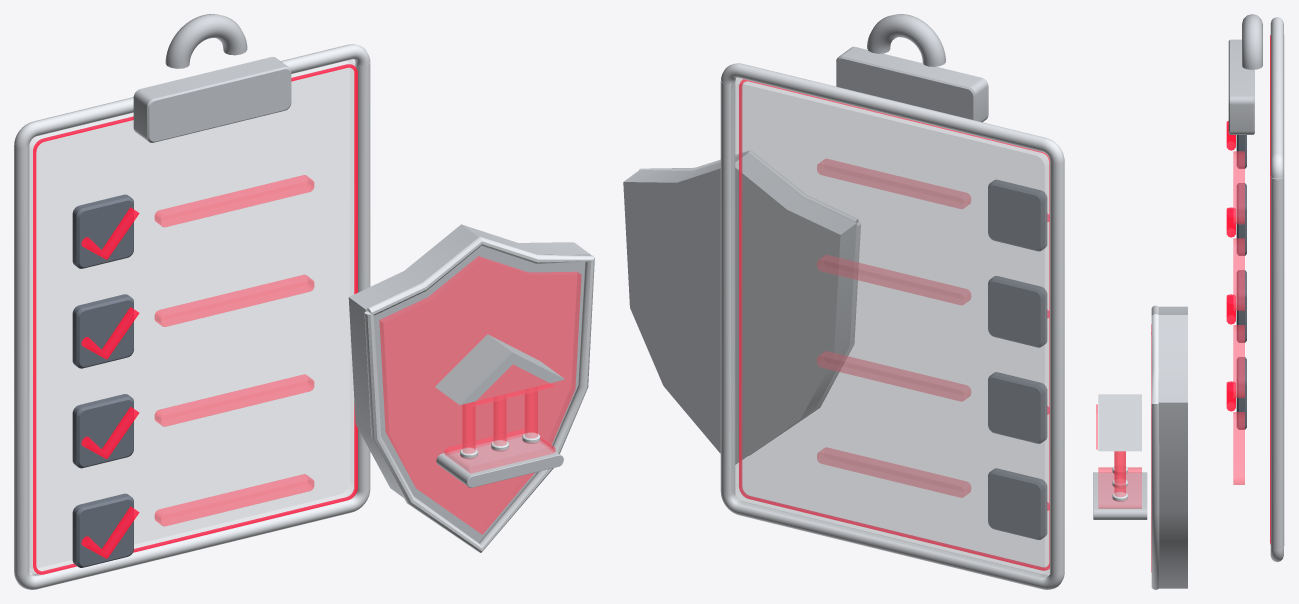
File: 19-compliance.glb
3 renders of one model, left to right at view 1: azimuth 30°, elevation 25°; view 2: azimuth 150°, elevation 25°; view 3: azimuth 270°, elevation 25°, orthographic. The views are drawn at different scales.
Parts seen in each view (by area): view 1: BC clear optical glass, BC satin silver metal, BC ruby optical glass, BC polished silver metal, BC dark brushed metal, BC neon red glass edge; view 2: BC clear optical glass, BC satin silver metal, BC polished silver metal, BC dark brushed metal, BC ruby optical glass, BC neon red glass edge; view 3: BC satin silver metal, BC polished silver metal, BC ruby optical glass, BC dark brushed metal, BC neon red glass edge, BC clear optical glass.
Boxes of the visible parts, bbox=[...] form: BC clear optical glass: bbox=[29, 59, 357, 575]; BC satin silver metal: bbox=[133, 14, 590, 542]; BC ruby optical glass: bbox=[154, 175, 581, 534]; BC polished silver metal: bbox=[14, 44, 594, 589]; BC dark brushed metal: bbox=[72, 194, 133, 567]; BC neon red glass edge: bbox=[33, 64, 357, 574]; BC clear optical glass: bbox=[731, 78, 1049, 577]; BC satin silver metal: bbox=[623, 14, 988, 464]; BC polished silver metal: bbox=[639, 63, 1064, 589]; BC dark brushed metal: bbox=[988, 179, 1047, 539]; BC ruby optical glass: bbox=[817, 159, 970, 497]; BC neon red glass edge: bbox=[739, 79, 1049, 570]; BC satin silver metal: bbox=[1093, 14, 1262, 588]; BC polished silver metal: bbox=[1112, 17, 1283, 589]; BC ruby optical glass: bbox=[1096, 151, 1244, 572]; BC dark brushed metal: bbox=[1236, 135, 1246, 429]; BC neon red glass edge: bbox=[1226, 35, 1270, 544]; BC clear optical glass: bbox=[1284, 33, 1284, 545].
Bounding box in the file's own units: 1.94 × 2 × 0.7248.
